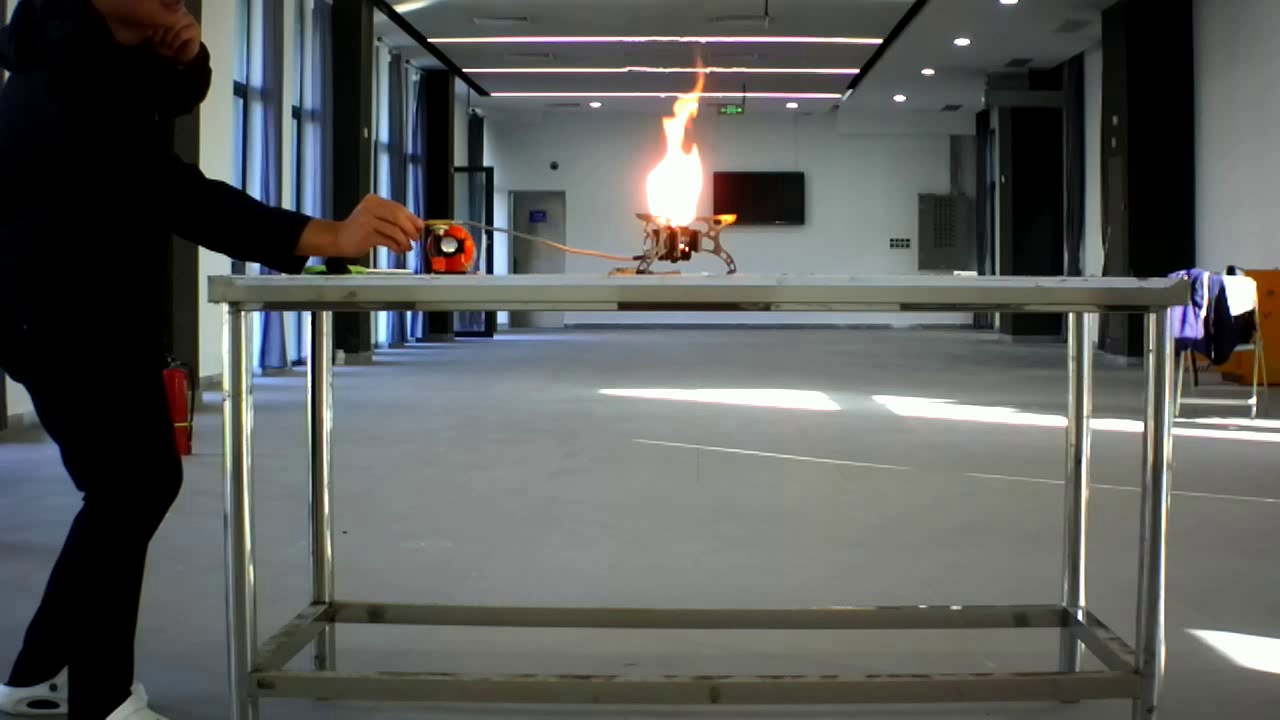Fire: (618, 59, 746, 266)
